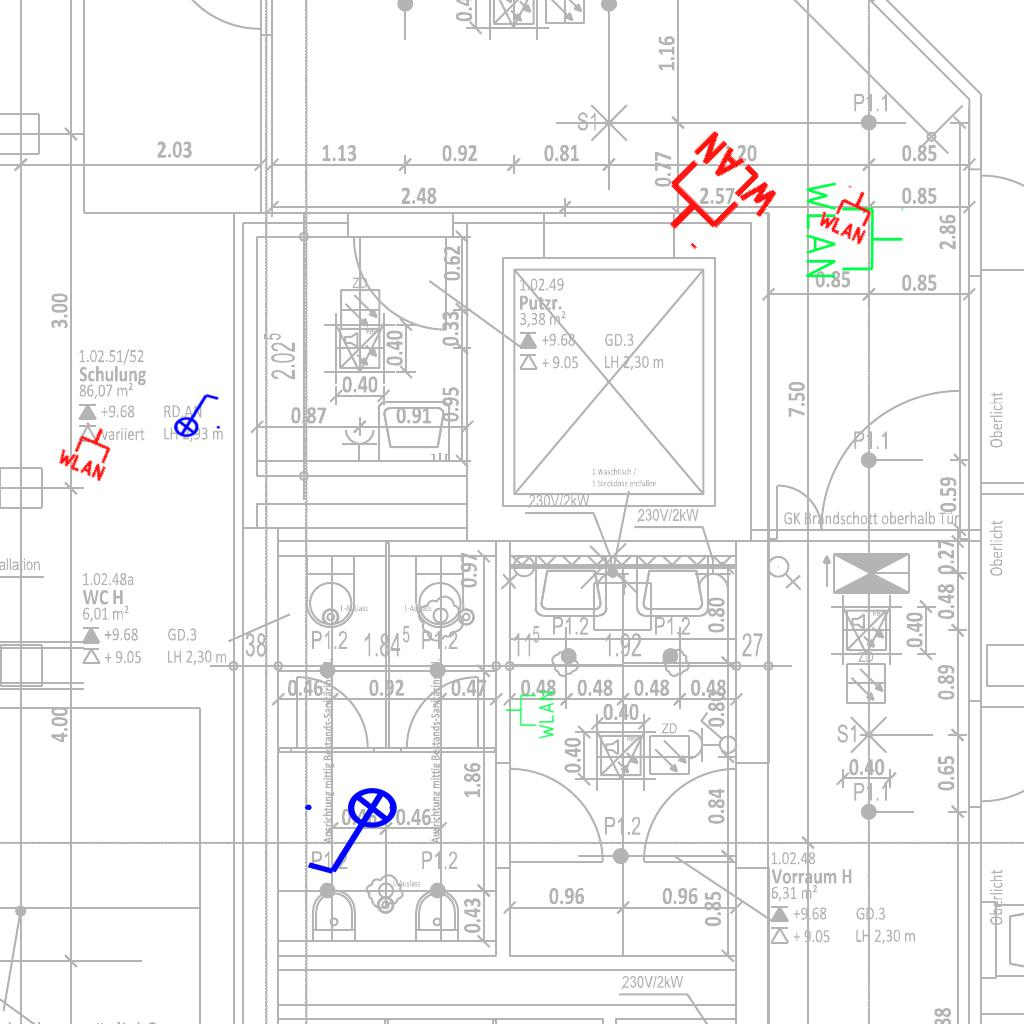Ausschalter_beleuchtet: (299, 786, 411, 882), (167, 390, 223, 438)
WLAN: (638, 125, 787, 273), (802, 177, 906, 282), (53, 414, 123, 484), (814, 177, 884, 247), (504, 689, 556, 741)
